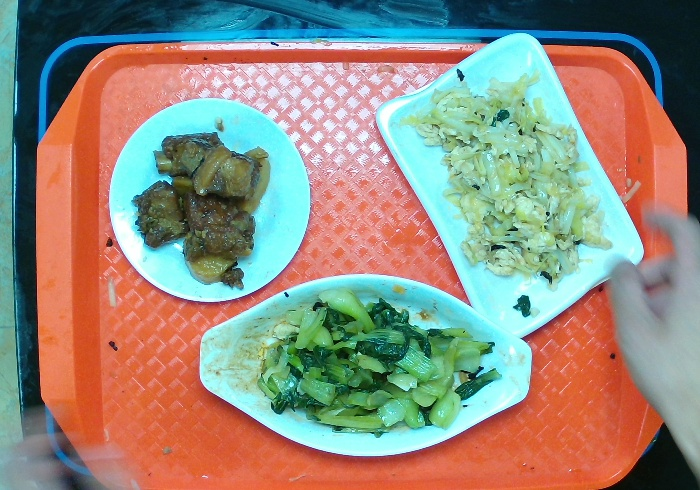RJxy-Si_Fang_Ao_Bian_Wan: (377, 31, 644, 343)
RJxy-Xiao_Yuan_Die: (95, 96, 319, 308)
RJxy-Yu_Pan: (196, 272, 534, 458)
